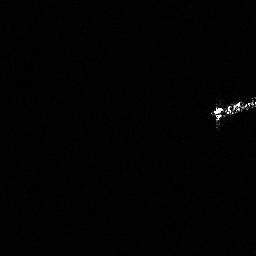ship: (211, 94, 256, 131)
